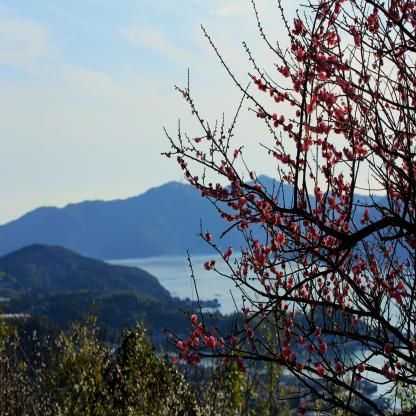Ume: (159, 0, 416, 416)
